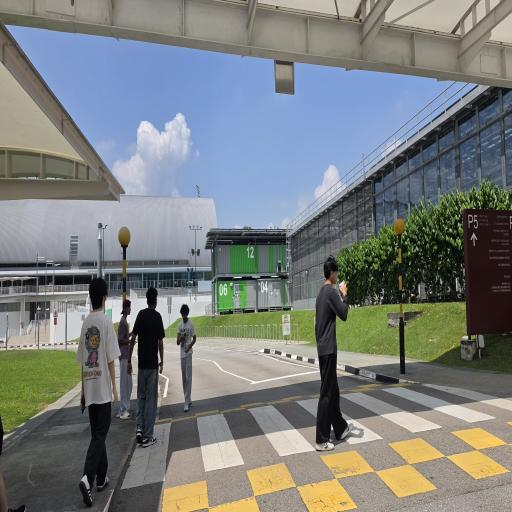person_right: (306, 247, 360, 450)
